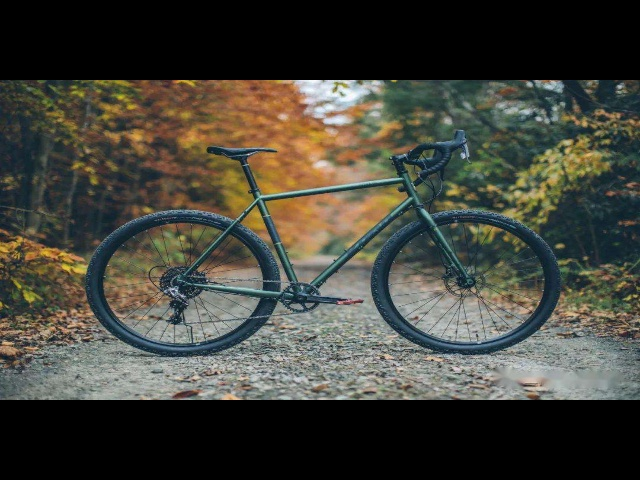bike: (73, 126, 568, 371)
